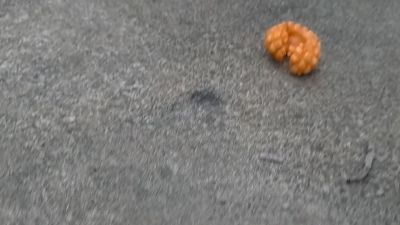eggs: (266, 20, 321, 76)
